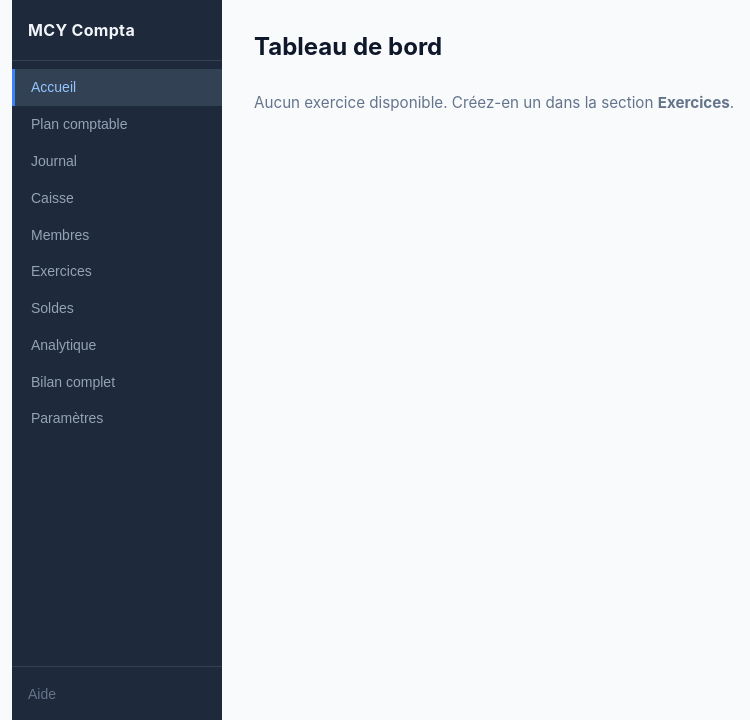
Test: App — navigation › navigue vers Journal au clic
What coordinates should you click on to do the following:
click the button "Journal"
I would click on:
 (117, 161)
Its box is x1=12 y1=143 x2=222 y2=179.
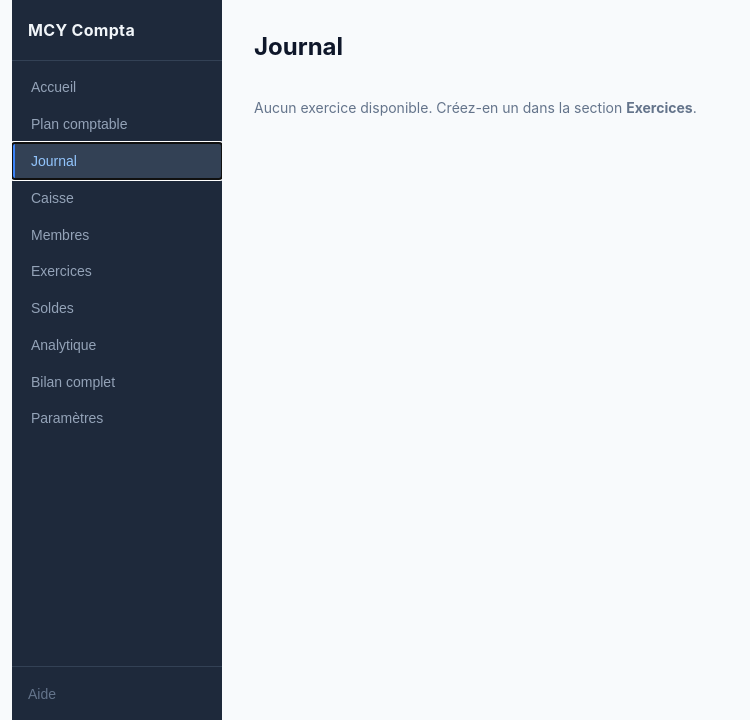
Check: the heading "Journal" is shown, box x1=254 y1=32 x2=343 y2=61
